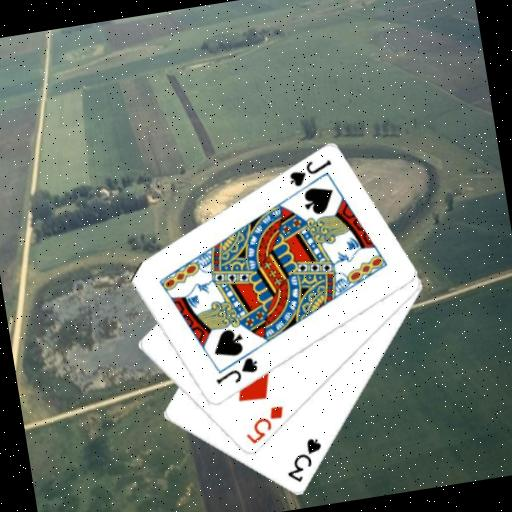3S: (279, 433, 328, 486)
5D: (239, 402, 290, 448)
JS: (209, 352, 261, 388), (283, 155, 336, 190)
